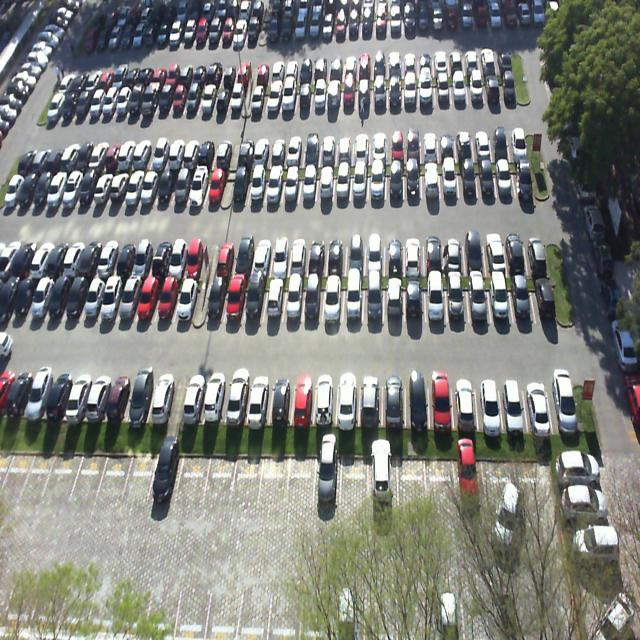space-empty: (94, 445, 132, 502), (123, 442, 158, 502), (71, 446, 106, 501), (43, 445, 78, 499), (231, 451, 264, 504), (204, 448, 238, 498), (175, 445, 208, 496), (21, 446, 55, 494), (259, 448, 290, 500), (288, 449, 314, 504)
space-occupied: (148, 444, 182, 500), (545, 370, 576, 426), (499, 373, 528, 432), (312, 451, 342, 507), (223, 370, 254, 424), (523, 371, 550, 428), (64, 367, 93, 420), (476, 372, 502, 429), (117, 271, 146, 322), (222, 272, 249, 326), (83, 371, 112, 421), (106, 371, 134, 422), (452, 374, 479, 426), (136, 267, 162, 320), (428, 375, 454, 428), (127, 370, 154, 420), (312, 372, 336, 428), (268, 373, 294, 424), (154, 274, 180, 324), (203, 370, 229, 420), (246, 372, 272, 422), (262, 270, 286, 324), (530, 270, 557, 318), (148, 374, 175, 422), (359, 371, 382, 426), (174, 272, 198, 324), (382, 371, 405, 424), (101, 270, 125, 320), (241, 275, 265, 325), (335, 373, 359, 423), (290, 372, 313, 424), (405, 374, 428, 426), (486, 273, 511, 320), (483, 227, 507, 275), (181, 373, 206, 418), (443, 226, 466, 273), (205, 273, 225, 327), (130, 236, 156, 276), (113, 238, 140, 276), (509, 276, 532, 320), (303, 276, 324, 324), (155, 165, 178, 208), (525, 229, 548, 272), (444, 277, 467, 320), (467, 275, 488, 322), (148, 237, 172, 278), (188, 164, 211, 206), (363, 276, 384, 322), (282, 276, 302, 324), (167, 238, 192, 276), (505, 227, 526, 272), (322, 277, 343, 322), (425, 229, 445, 276), (188, 239, 212, 278), (139, 165, 162, 205), (511, 156, 534, 196), (287, 234, 310, 274), (404, 226, 424, 272), (404, 274, 424, 320), (426, 276, 446, 322), (172, 165, 193, 208), (382, 231, 404, 272), (229, 238, 252, 277), (204, 166, 226, 206), (464, 228, 484, 272), (231, 164, 252, 205), (213, 239, 236, 276), (384, 276, 402, 322), (307, 234, 328, 273), (345, 231, 364, 274), (268, 236, 290, 272), (251, 235, 272, 272), (345, 275, 362, 320), (324, 235, 344, 273), (364, 235, 383, 273), (458, 162, 478, 198), (478, 158, 496, 198), (299, 166, 317, 205), (494, 160, 514, 195), (267, 166, 284, 207), (283, 164, 300, 205), (250, 166, 268, 204), (368, 162, 386, 200), (422, 163, 440, 198), (333, 165, 350, 202), (388, 162, 404, 200), (403, 163, 420, 198), (440, 162, 458, 195), (316, 166, 332, 200), (351, 164, 367, 198)
